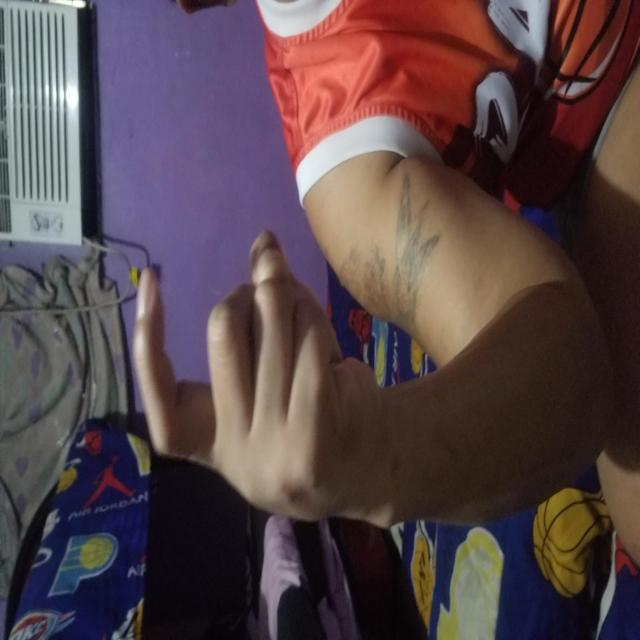X: (121, 134, 403, 386)
